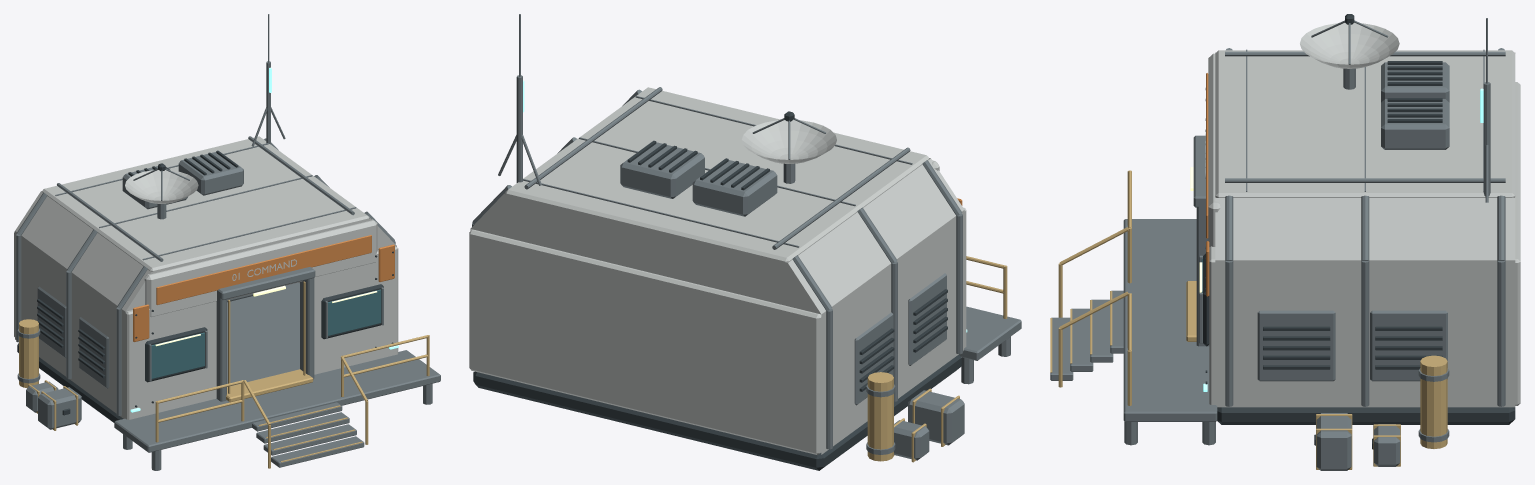
Rendered from command.glb.
3 renders of one model, left to right at view 1: azimuth 30°, elevation 25°; view 2: azimuth 150°, elevation 25°; view 3: azimuth 270°, elevation 25°, orthographic. The views are drawn at different scales.
Parts seen in each view (by area): view 1: command_ceramic, command_edge, command_brass, command_orange, command_dark, command_glass; view 2: command_ceramic, command_edge, command_dark, command_brass; view 3: command_ceramic, command_edge, command_dark, command_brass, command_orange.
Boxes of the visible parts, x1,y1,x2,y2 form: command_ceramic: (14,136,398,419); command_edge: (16,14,440,470); command_brass: (19,281,429,468); command_orange: (133,235,394,341); command_dark: (17,150,393,422); command_glass: (151,289,381,378); command_ceramic: (469,87,966,454); command_edge: (472,14,1021,460); command_dark: (473,111,961,470); command_brass: (867,256,1007,462); command_ceramic: (1205,22,1520,407); command_edge: (1050,18,1505,470); command_dark: (1203,14,1515,449); command_brass: (1050,170,1447,469); command_orange: (1206,73,1209,296).
Bounding box in the file's own units: 8.76 × 7.27 × 7.54.
